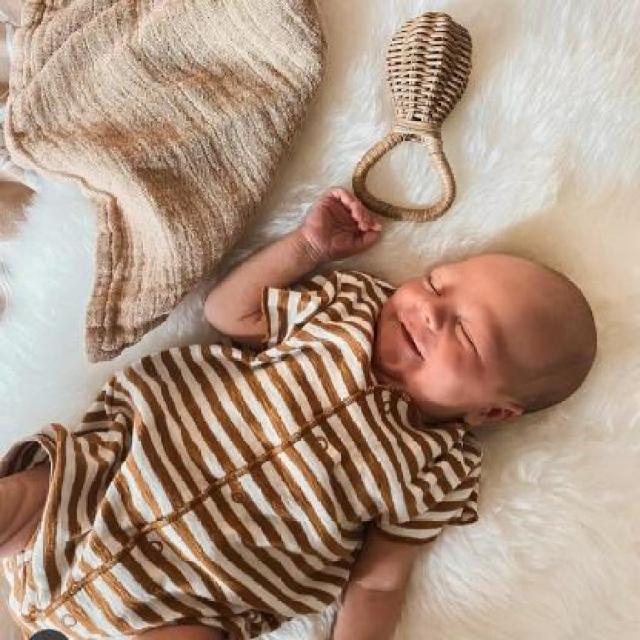baby: (3, 184, 597, 638)
